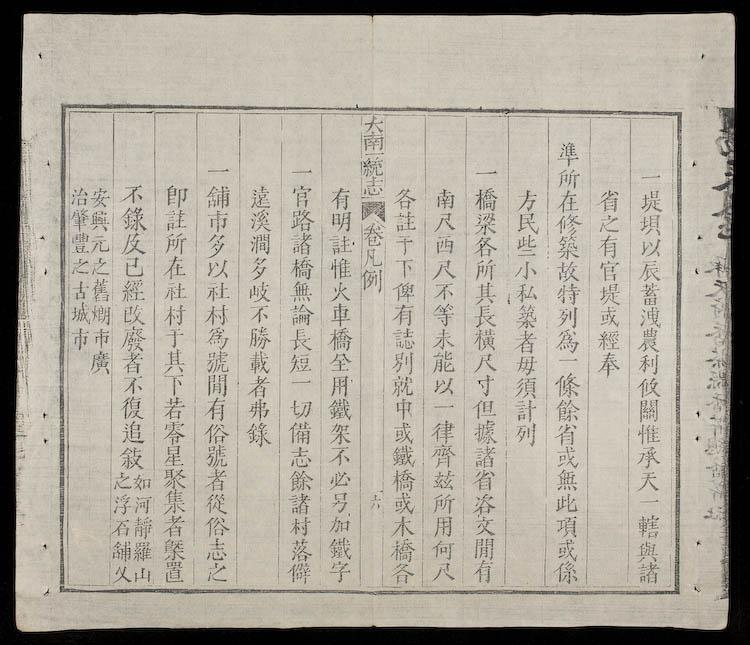c: (553, 370, 582, 397), (118, 205, 148, 231), (244, 421, 273, 447), (634, 512, 663, 538), (203, 183, 233, 208), (472, 185, 500, 211), (326, 535, 354, 560), (326, 326, 354, 351), (160, 489, 188, 514), (429, 443, 457, 468), (119, 326, 148, 350), (388, 538, 417, 562), (117, 445, 146, 469), (553, 398, 582, 422), (556, 139, 581, 166), (595, 351, 622, 376), (471, 419, 498, 444), (472, 211, 499, 236), (245, 349, 272, 374), (636, 327, 663, 352), (287, 419, 314, 444), (554, 328, 581, 353), (637, 188, 665, 212), (119, 278, 147, 302), (429, 418, 457, 442), (161, 255, 189, 279), (635, 444, 663, 468), (635, 469, 663, 493), (118, 395, 146, 419), (554, 235, 582, 259), (389, 467, 417, 491), (596, 187, 622, 212), (636, 397, 662, 422), (161, 348, 187, 373), (512, 329, 539, 353), (389, 350, 416, 374), (471, 536, 498, 560), (119, 420, 146, 444), (430, 350, 457, 374), (245, 374, 272, 398), (390, 326, 417, 350), (160, 395, 187, 419), (287, 327, 314, 351), (636, 258, 664, 281), (202, 514, 230, 537), (287, 303, 315, 326), (202, 421, 230, 444), (287, 232, 315, 255), (203, 350, 231, 373), (202, 491, 230, 514), (553, 445, 581, 468), (552, 560, 580, 583), (326, 397, 354, 420), (286, 468, 314, 491), (119, 232, 147, 255), (389, 444, 417, 467), (634, 561, 663, 583), (203, 280, 232, 302), (553, 260, 582, 282), (554, 212, 583, 234), (289, 183, 314, 208), (203, 396, 228, 421), (514, 303, 539, 328), (203, 537, 229, 561), (204, 233, 230, 257), (287, 537, 313, 561), (431, 302, 457, 326), (246, 325, 272, 349), (514, 187, 540, 211), (163, 183, 189, 207), (470, 560, 497, 583), (471, 468, 498, 491), (389, 374, 416, 397), (286, 491, 313, 514), (470, 492, 497, 515), (471, 445, 498, 468), (203, 326, 230, 349), (390, 303, 417, 326), (162, 208, 189, 231), (288, 208, 315, 231), (203, 373, 230, 396), (161, 303, 188, 326), (203, 444, 230, 467), (288, 256, 315, 279), (553, 514, 580, 537), (471, 328, 498, 351), (596, 282, 623, 305), (247, 209, 274, 232), (391, 210, 418, 233), (595, 328, 622, 351), (287, 445, 314, 468), (119, 351, 146, 374), (160, 514, 187, 537), (160, 420, 187, 443), (511, 422, 539, 444), (512, 376, 540, 398), (554, 283, 582, 305), (203, 303, 231, 325), (327, 233, 355, 255), (553, 305, 581, 327), (635, 422, 663, 444), (160, 467, 188, 489), (511, 399, 539, 421), (247, 256, 272, 280), (248, 184, 273, 208), (636, 375, 662, 398), (327, 422, 353, 445), (637, 282, 663, 305), (203, 468, 229, 491), (472, 305, 498, 328), (247, 232, 273, 255), (327, 257, 353, 280), (431, 327, 457, 350), (554, 468, 580, 491), (390, 397, 416, 420), (288, 279, 314, 302), (555, 189, 581, 212), (472, 258, 498, 281), (595, 234, 621, 257), (286, 562, 313, 584), (389, 562, 416, 584), (430, 469, 457, 491), (390, 492, 417, 514), (390, 421, 417, 443), (637, 213, 664, 235), (389, 515, 416, 537), (431, 258, 458, 280), (553, 422, 580, 444), (553, 538, 580, 560), (471, 397, 498, 419), (160, 538, 187, 560), (120, 303, 147, 325), (287, 352, 314, 374), (204, 210, 231, 232), (161, 280, 189, 301), (88, 350, 112, 374), (328, 186, 352, 210), (514, 234, 539, 257), (392, 186, 417, 209), (597, 259, 622, 282), (160, 444, 186, 466), (161, 373, 187, 395), (327, 560, 353, 582), (514, 211, 540, 233), (327, 374, 353, 396), (162, 232, 188, 254), (635, 539, 661, 561), (327, 210, 353, 232), (391, 280, 417, 302), (246, 281, 272, 303), (472, 282, 498, 304), (245, 398, 271, 420), (432, 211, 458, 233), (120, 182, 146, 204), (430, 492, 456, 514), (286, 515, 313, 536), (430, 539, 457, 560), (512, 354, 539, 375), (637, 306, 664, 327), (287, 397, 314, 418), (512, 259, 539, 280), (555, 167, 582, 188), (596, 306, 623, 327), (204, 258, 231, 279), (202, 561, 229, 582), (470, 516, 498, 536), (553, 492, 581, 512), (431, 514, 455, 537), (433, 187, 457, 210), (131, 515, 154, 539), (89, 277, 111, 302), (327, 490, 352, 512), (327, 303, 352, 325), (327, 351, 353, 372), (430, 375, 456, 396), (513, 282, 539, 303), (472, 352, 498, 373), (472, 236, 498, 257), (327, 445, 353, 466), (430, 561, 456, 582), (636, 353, 662, 374), (637, 236, 664, 256), (69, 301, 92, 324), (473, 374, 497, 396), (162, 561, 186, 583), (363, 222, 385, 246), (392, 257, 417, 278), (327, 468, 352, 489), (327, 514, 353, 534), (431, 281, 457, 301), (69, 207, 91, 230), (111, 539, 133, 562), (361, 156, 385, 177), (121, 256, 145, 277), (328, 281, 352, 302), (433, 234, 457, 255), (596, 213, 621, 233), (247, 304, 272, 324), (132, 540, 154, 562), (70, 326, 91, 349), (90, 185, 111, 208), (393, 234, 416, 255), (162, 327, 186, 347), (121, 375, 146, 394), (89, 209, 110, 231), (71, 231, 91, 254), (362, 134, 385, 154), (204, 162, 232, 178), (473, 165, 501, 181), (69, 185, 90, 206), (90, 304, 111, 325), (361, 269, 381, 291), (88, 233, 110, 253), (112, 493, 132, 515), (361, 179, 385, 197), (637, 168, 664, 184), (92, 327, 112, 348), (89, 256, 110, 276), (132, 494, 153, 514), (71, 279, 90, 301), (362, 115, 385, 133), (287, 376, 314, 391), (362, 248, 383, 267), (131, 472, 152, 491), (635, 495, 663, 509), (113, 564, 132, 584), (112, 518, 131, 538), (113, 471, 133, 490), (70, 256, 90, 275), (367, 491, 386, 511), (288, 165, 315, 179), (132, 565, 153, 583), (431, 400, 457, 414), (554, 355, 581, 368)
